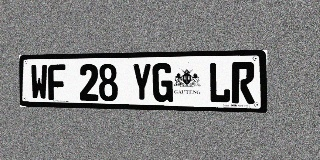2: (80, 64, 98, 101)
8: (99, 64, 118, 101)
F: (48, 64, 66, 100)
G: (152, 63, 173, 102)
L: (208, 62, 231, 103)
R: (232, 62, 255, 104)
W: (30, 64, 48, 100)
Y: (132, 63, 152, 102)
